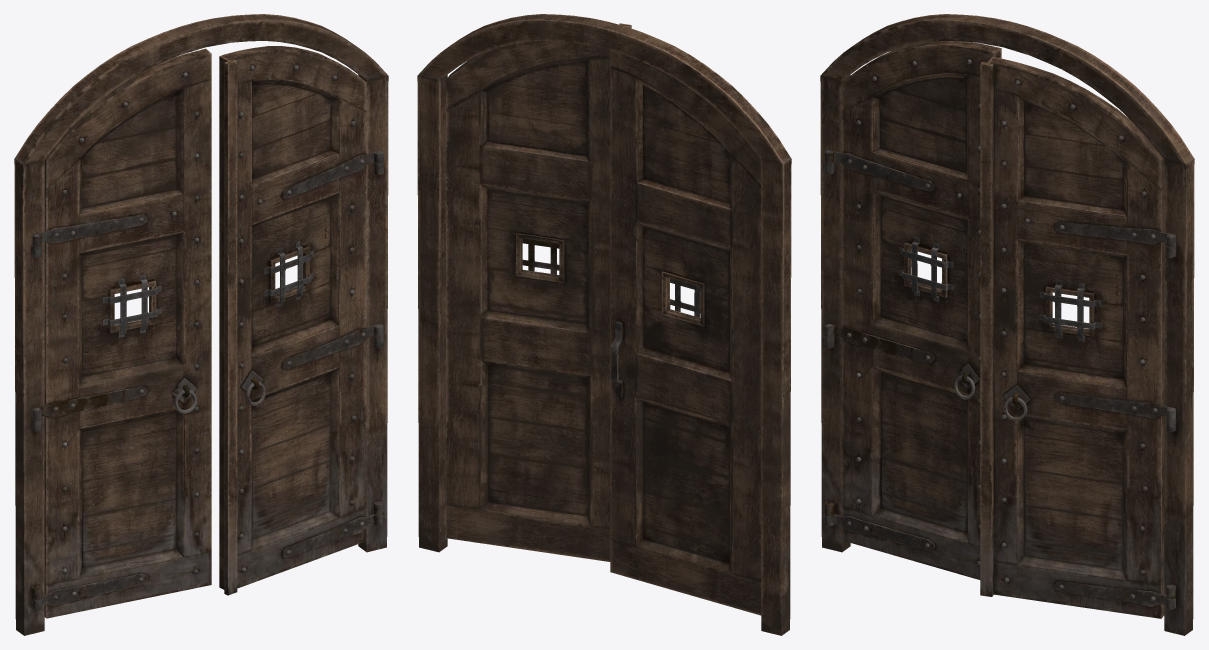
Rendered from large_castle_door.glb.
The picture shows the model from 3 angles, left to right: view 1: azimuth 30°, elevation 25°; view 2: azimuth 150°, elevation 25°; view 3: azimuth 330°, elevation 25°; orthographic projection.
Parts seen in each view (by area): view 1: large_castle_door_frame; view 2: large_castle_door_frame; view 3: large_castle_door_frame.
Part boxes in pixels (<box>): large_castle_door_frame: <box>14,14,388,635</box>; large_castle_door_frame: <box>417,14,791,635</box>; large_castle_door_frame: <box>820,14,1194,635</box>.
Bounding box in the file's own units: 2.01 × 2.96 × 0.2964.
1 material, 1 textured.
